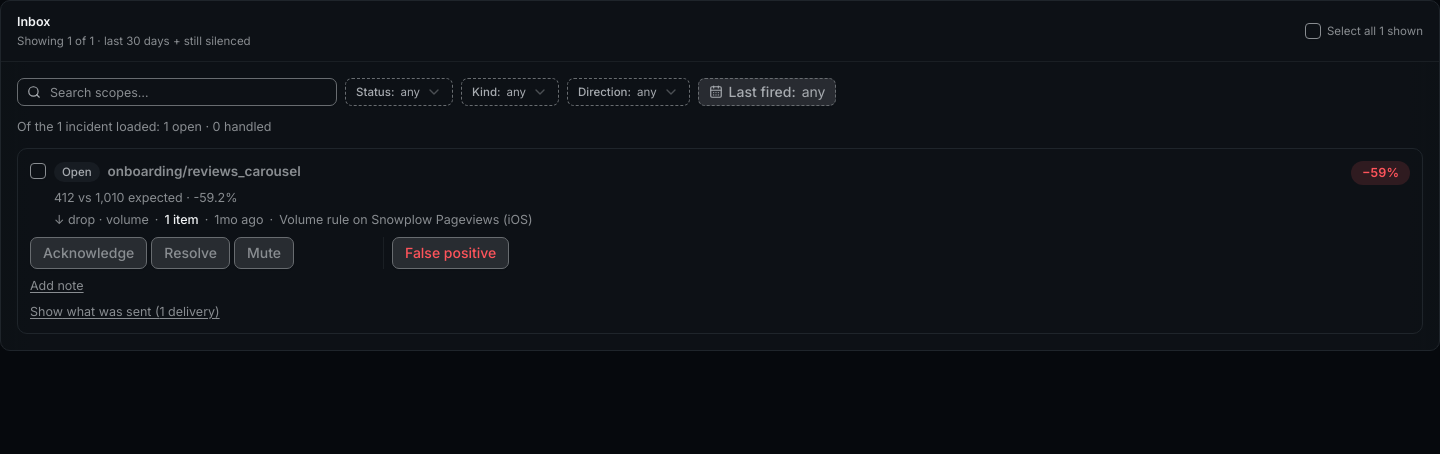
it: AlertingInbox — the note is reachable without taking an action (tripl-oxkt.14) › collapses behind "Add note" on a card nobody has written on
Click the button "Add note" at (57, 286), box [30, 277, 84, 295]
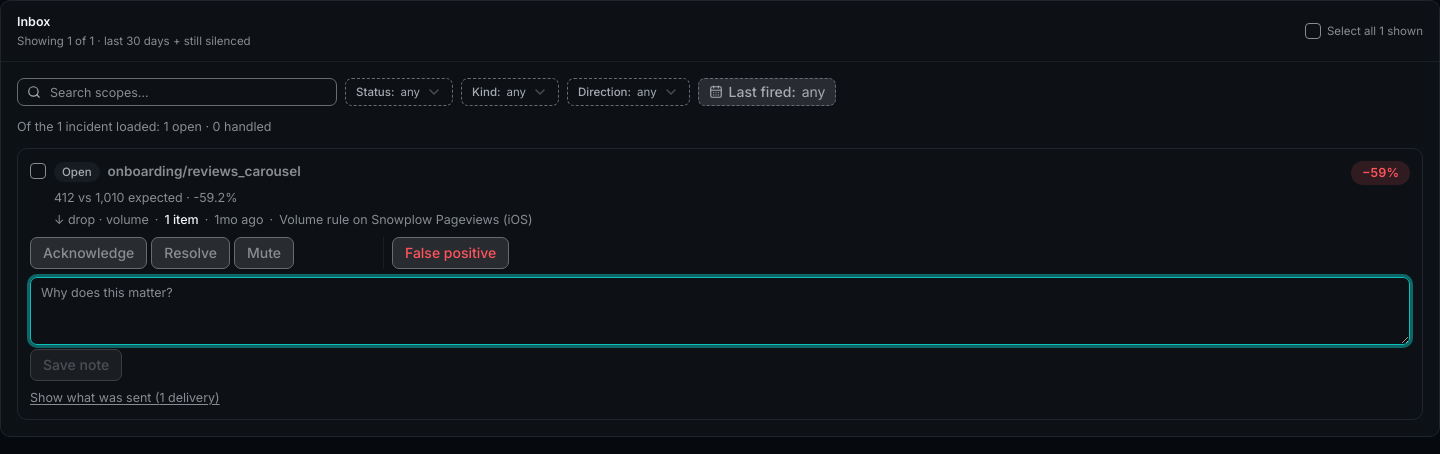
Expected: the text box named "Note on onboarding" is shown, [30, 277, 1410, 345]
